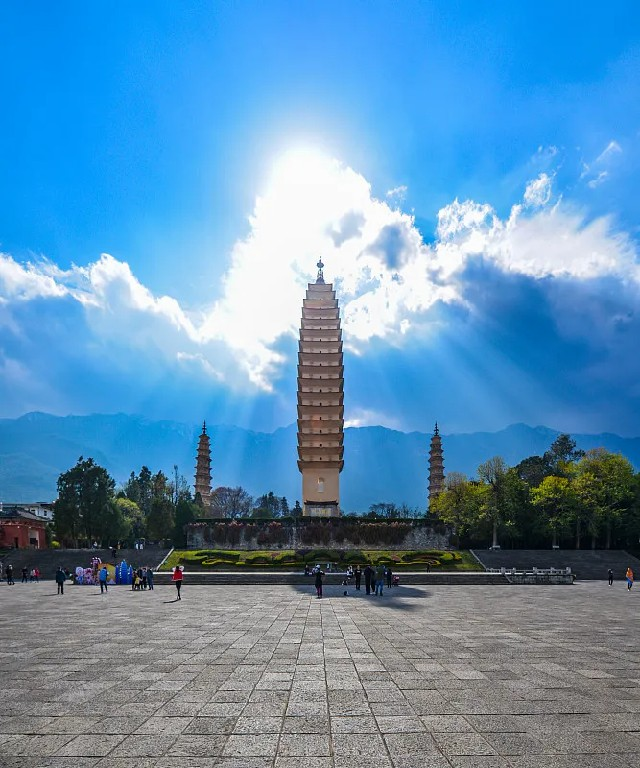ThreePagoda: (296, 256, 344, 516)
